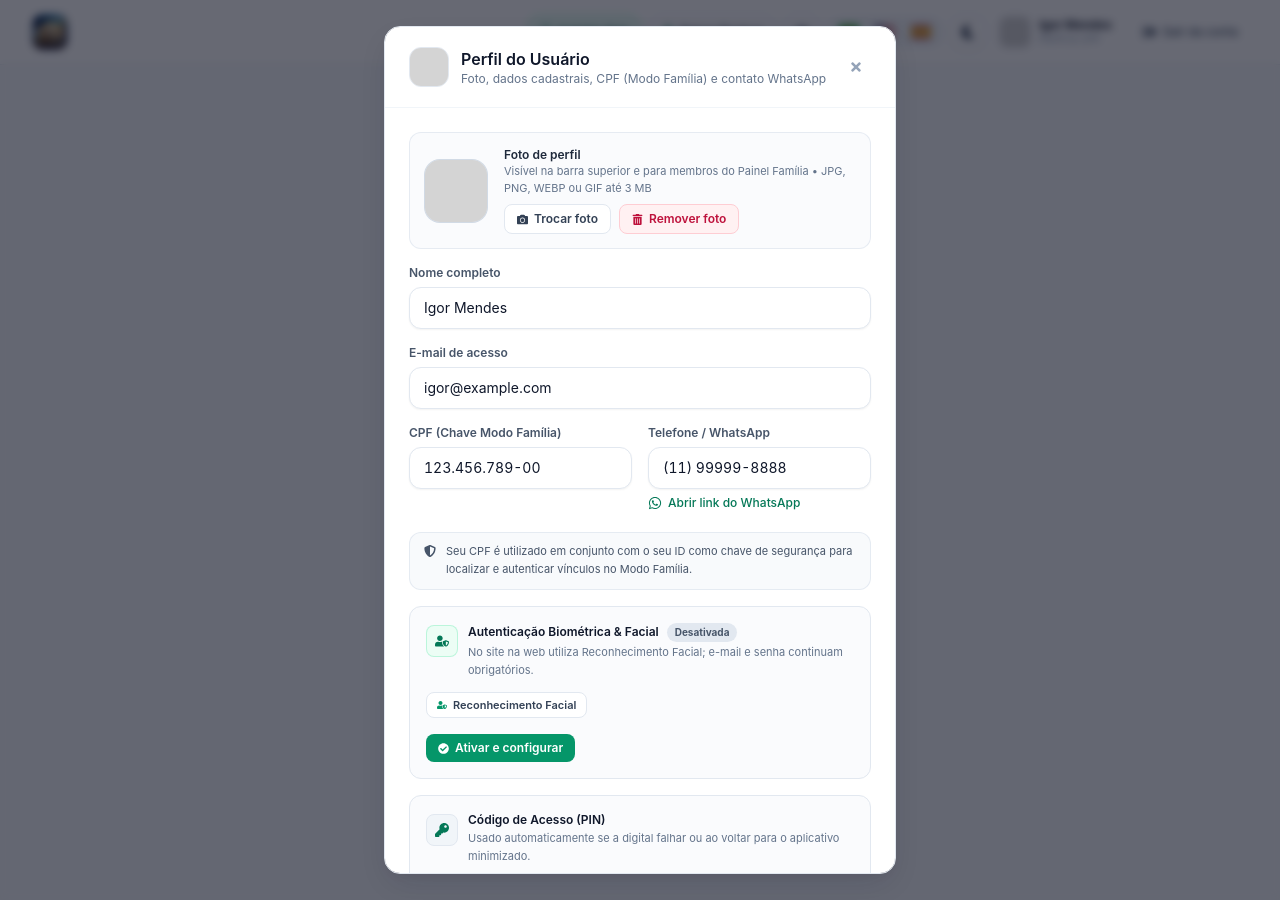
Cloudinary avatar & expense photo uploads › uploads and removes profile avatar in UserEditModal and updates top Navbar
Earlier steps of the test are not shown.
Later steps or results of the test are not shown.
Click the button with test id "user-edit-remove-avatar-btn" at (679, 219), box left=619, top=204, right=740, bottom=234
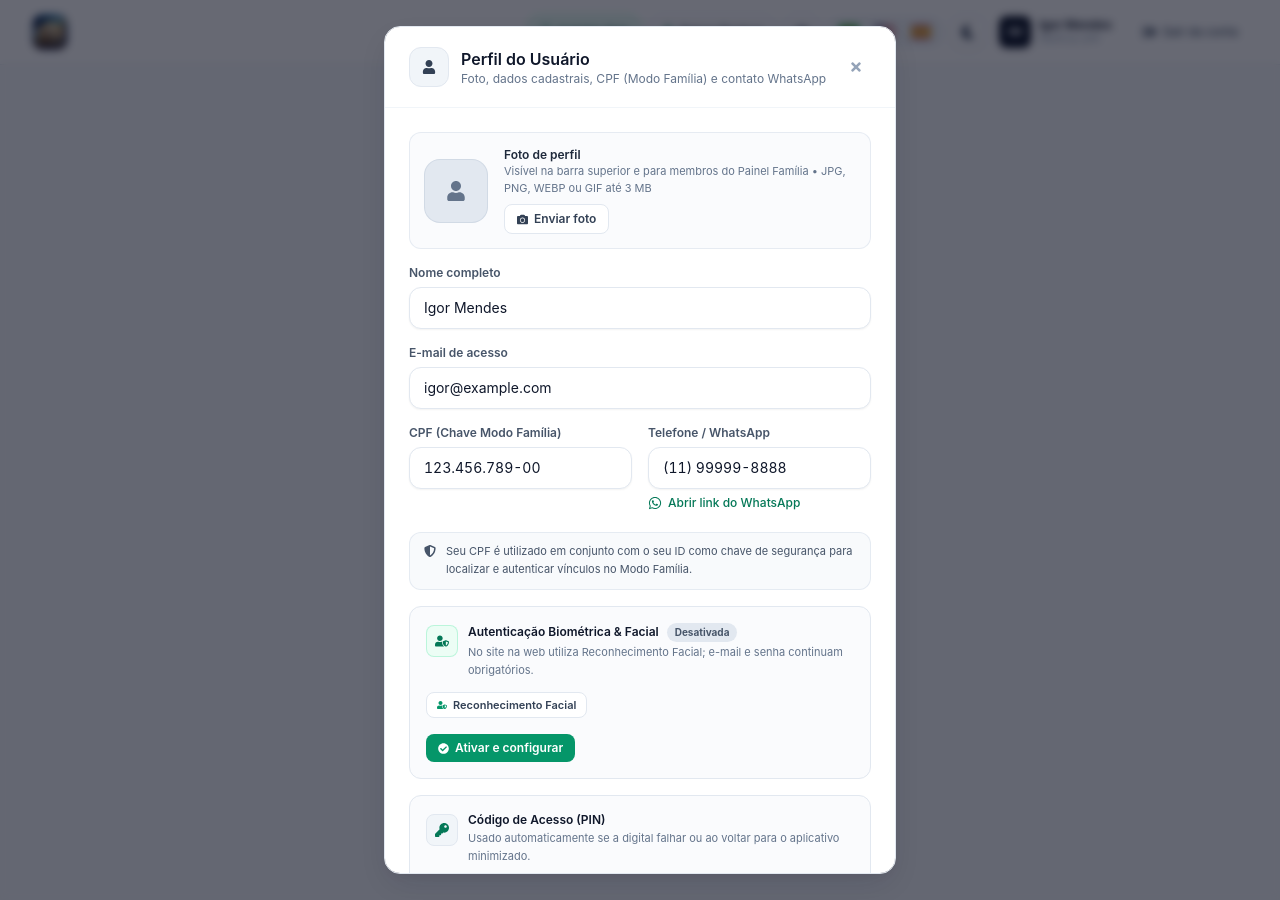
Result: the text "IM" is shown at left=999, top=16, right=1031, bottom=48
